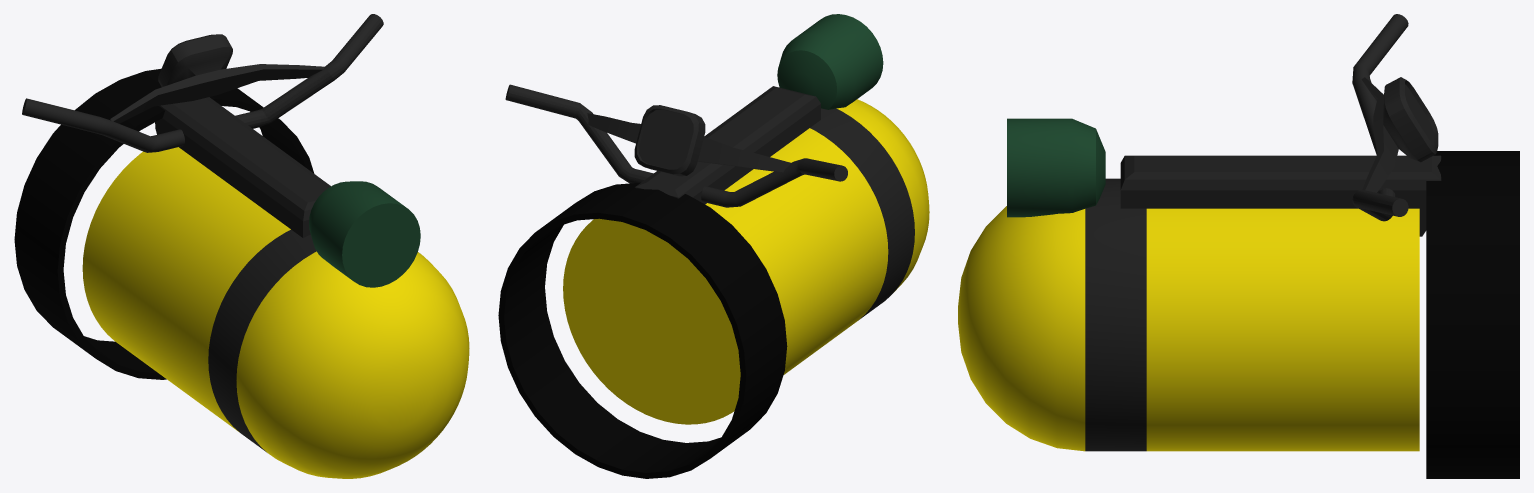
Rendered from Motor.fbx.
3 views of the same model, side by side, from view 1: azimuth 30°, elevation 25°; view 2: azimuth 150°, elevation 25°; view 3: azimuth 270°, elevation 25° (orthographic). The views are drawn at different scales.
Parts seen in each view (by area): view 1: Body; view 2: Body; view 3: Body.
Boxes of the visible parts, box(x1,y1,x2,y2) form: Body: box(14, 14, 469, 478); Body: box(498, 14, 929, 478); Body: box(958, 14, 1519, 478).
Bounding box in the file's own units: 66.13 × 60.92 × 82.31.
